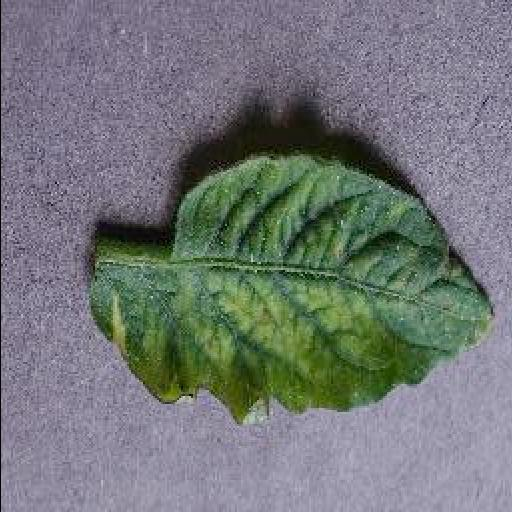Mosaic Virus: (86, 149, 498, 428)
